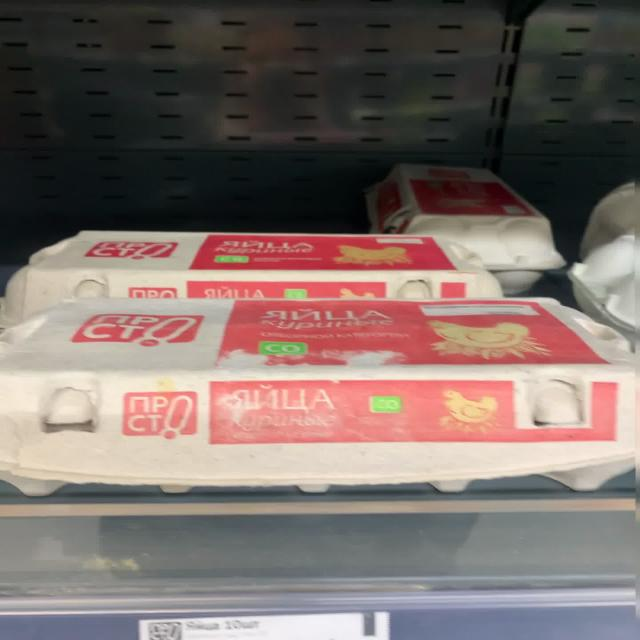egg box: (8, 314, 635, 498), (6, 225, 503, 310), (360, 156, 562, 288)
